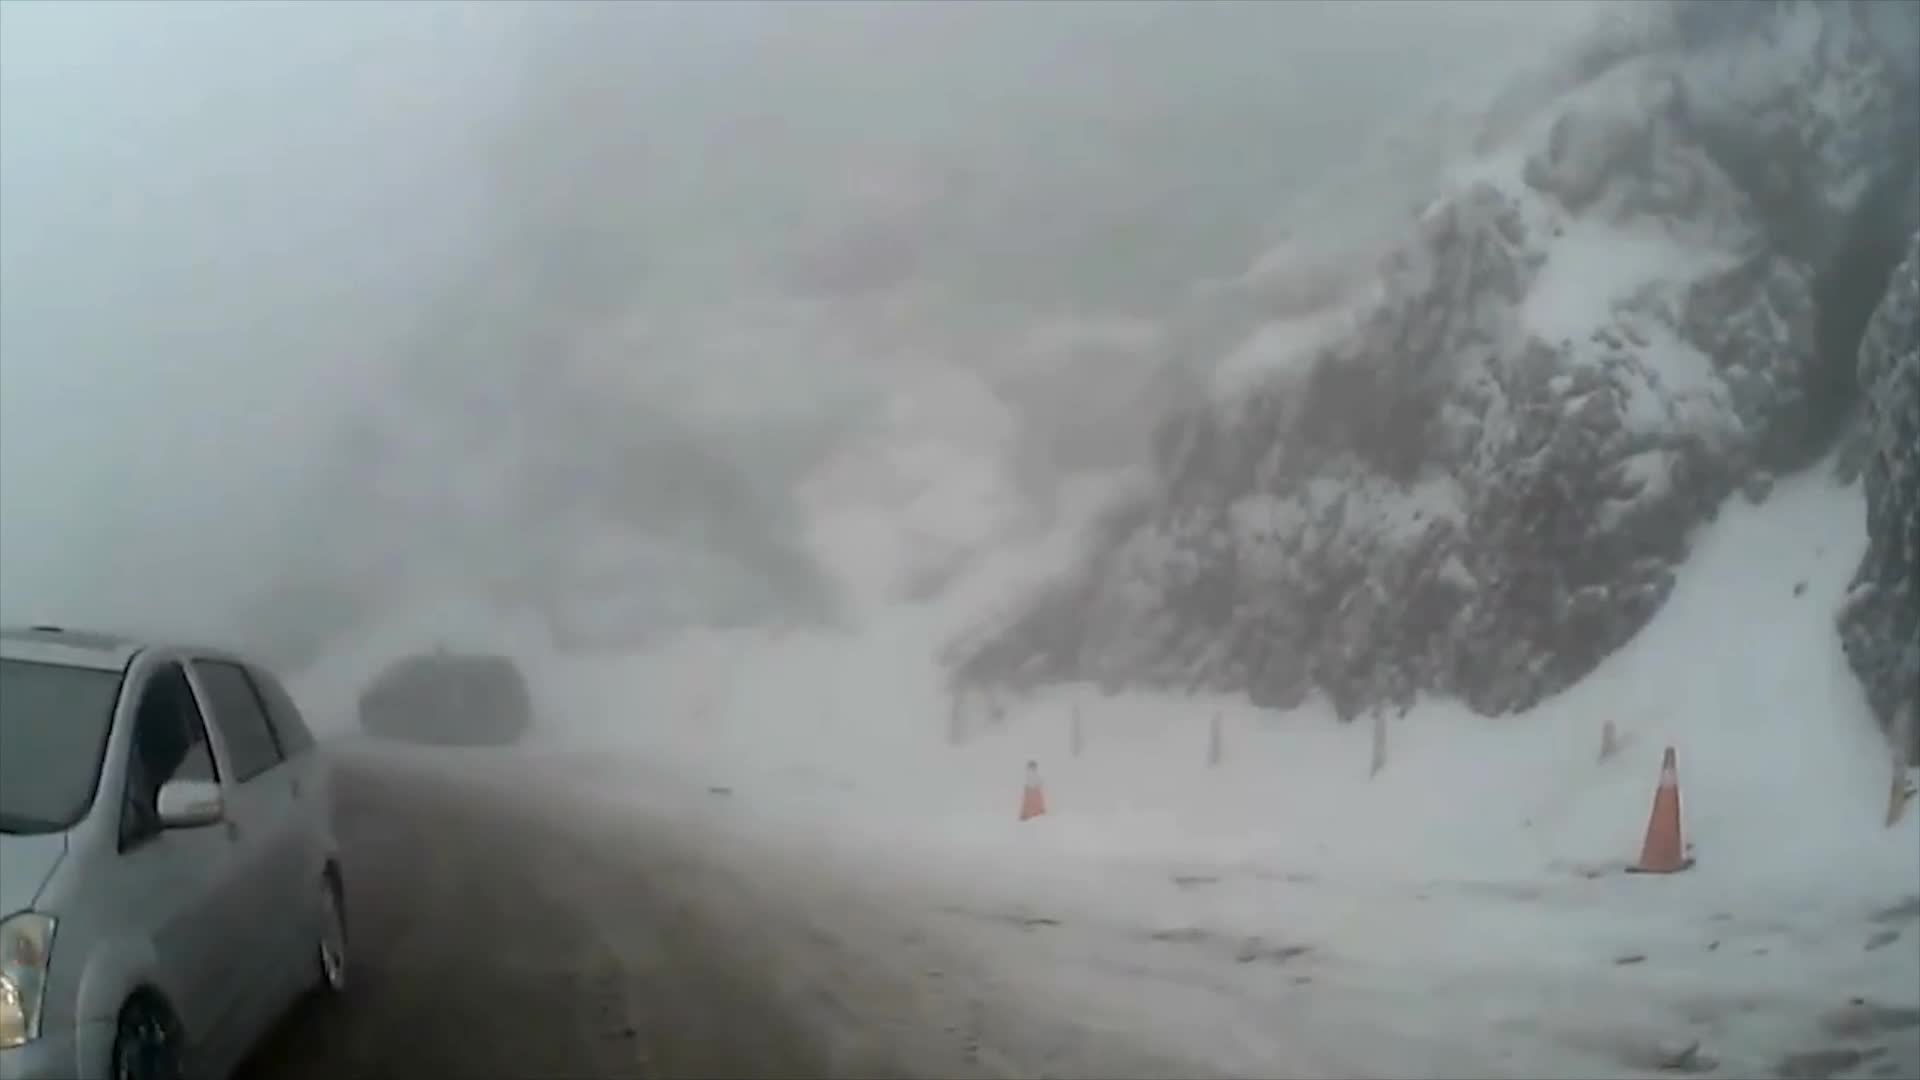vehicle: (0, 622, 356, 1079), (353, 651, 531, 750)
